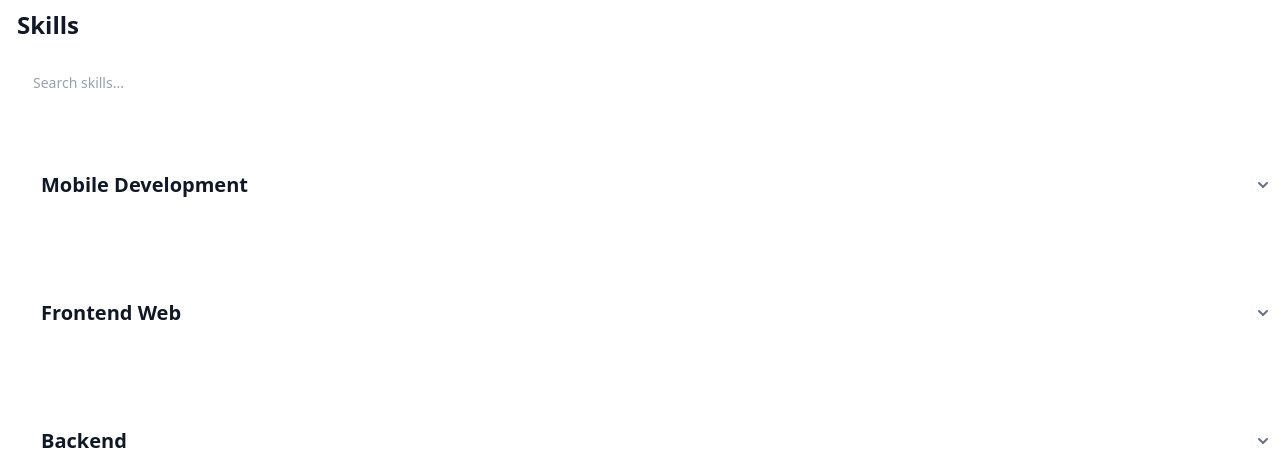
Test: SkillsSection Component › shows empty state when filter matches nothing
Type "zzznomatch" into the search field at {"x": 209, "y": 83}, box [17,65,401,101]
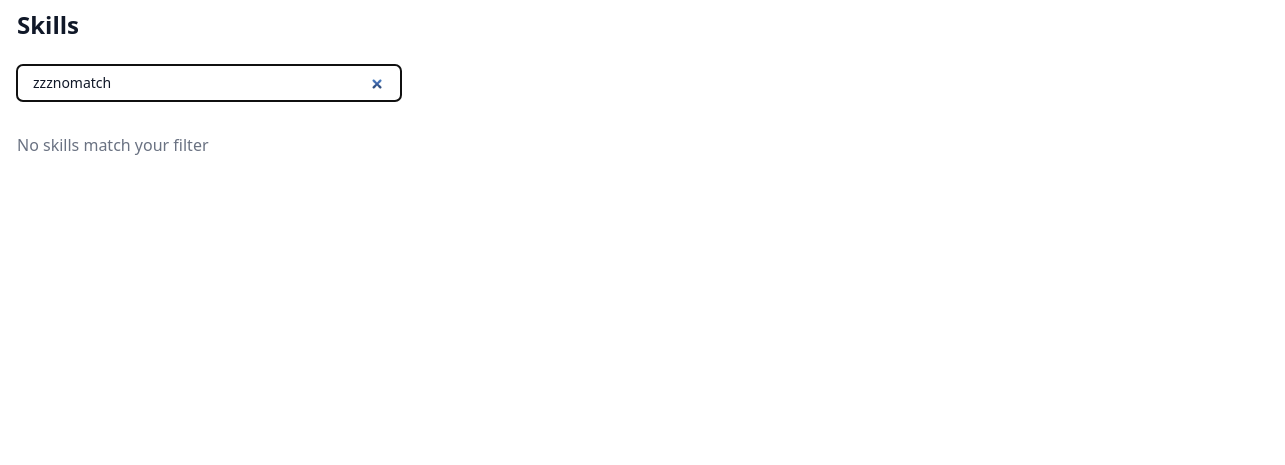
Now the text "No skills match your filter" is shown, box [17,134,208,156]
